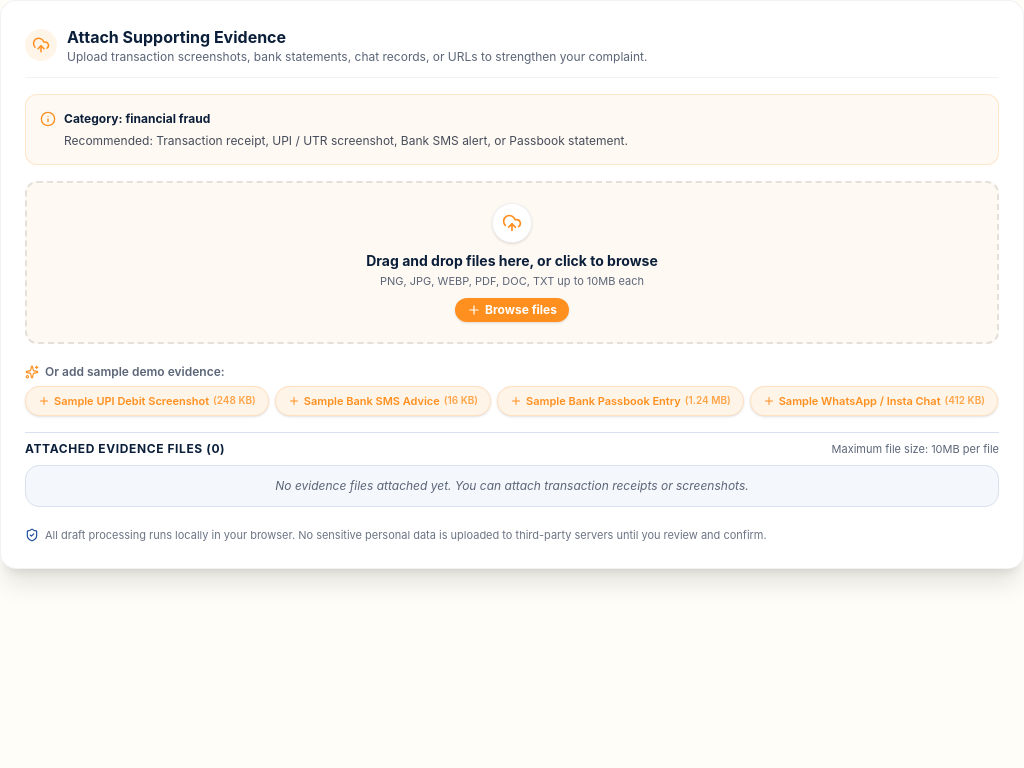
Test case: EvidenceUploader Component › adds sample demo evidence on clicking sample chip
The width and height of the screenshot is (1024, 768).
Click the button "Sample UPI Debit Screenshot (248 KB)" at (147, 401), box [25,386,269,416]
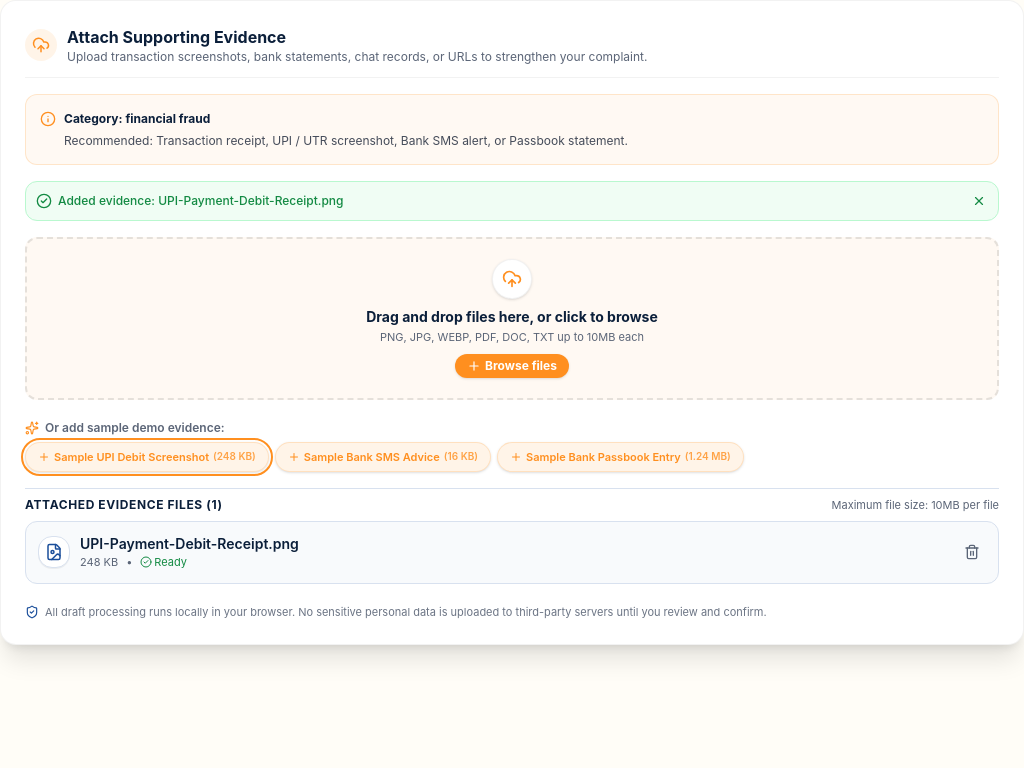
Expected: the text "UPI-Payment-Debit-Receipt.png" is shown, [80,534,299,554]
Expected: the text "248 KB" is shown, [80,554,118,570]
Expected: the text "Added evidence: UPI-Payment-Debit-Receipt.png" is shown, [58,193,344,209]
